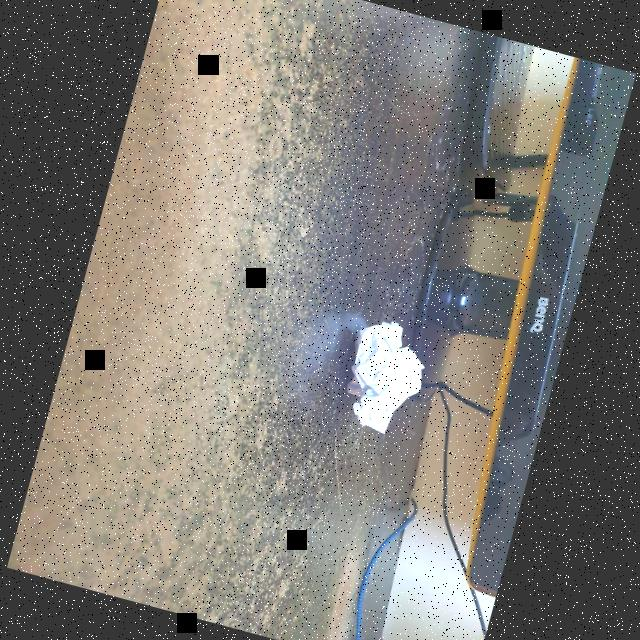scrap_paper: (325, 312, 437, 446)
